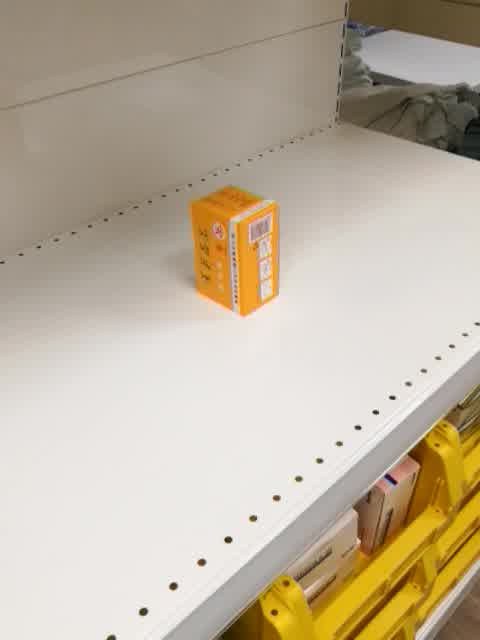jasminetea: (188, 184, 282, 318)
